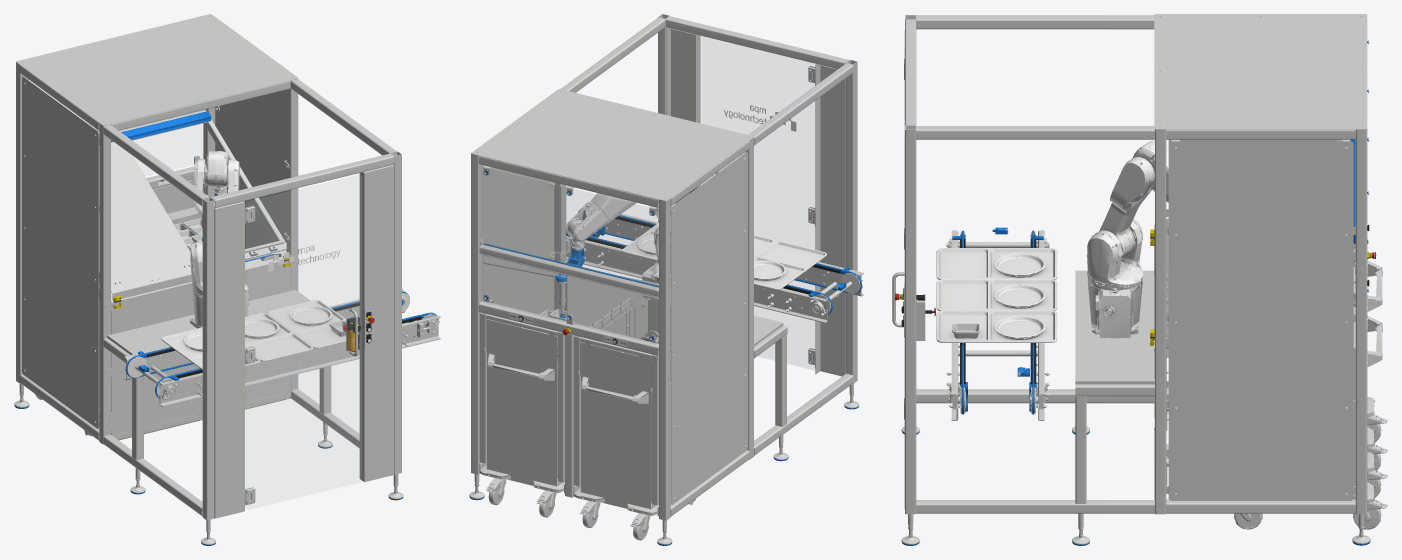
The model's file is Aufleger_Modul_6_prospekt.glb.
The picture shows the model from 3 angles, left to right: view 1: azimuth 30°, elevation 25°; view 2: azimuth 150°, elevation 25°; view 3: azimuth 270°, elevation 25°; orthographic projection. The views are drawn at different scales.
Visible parts, largest first — view 1: Edelstahl, Glas, Weiss, Blau, Schwarz; view 2: Edelstahl, Glas, Weiss, Blau, Schwarz; view 3: Edelstahl, Weiss, Blau, Schwarz.
Boxes of the visible parts, x1=… form: Edelstahl: x1=14, y1=14, x2=440, y2=544; Glas: x1=29, y1=80, x2=361, y2=509; Weiss: x1=24, y1=82, x2=439, y2=423; Blau: x1=14, y1=111, x2=439, y2=545; Schwarz: x1=19, y1=180, x2=421, y2=545; Edelstahl: x1=469, y1=14, x2=863, y2=544; Glas: x1=480, y1=36, x2=815, y2=370; Weiss: x1=482, y1=105, x2=862, y2=498; Blau: x1=469, y1=170, x2=861, y2=545; Schwarz: x1=476, y1=187, x2=854, y2=545; Edelstahl: x1=892, y1=14, x2=1387, y2=544; Weiss: x1=936, y1=41, x2=1369, y2=495; Blau: x1=901, y1=40, x2=1370, y2=545; Schwarz: x1=901, y1=224, x2=1369, y2=545.
Size of the model in its own units: 1.74 by 2.02 by 2.18.
Materials: 11 (9 with a texture image).
